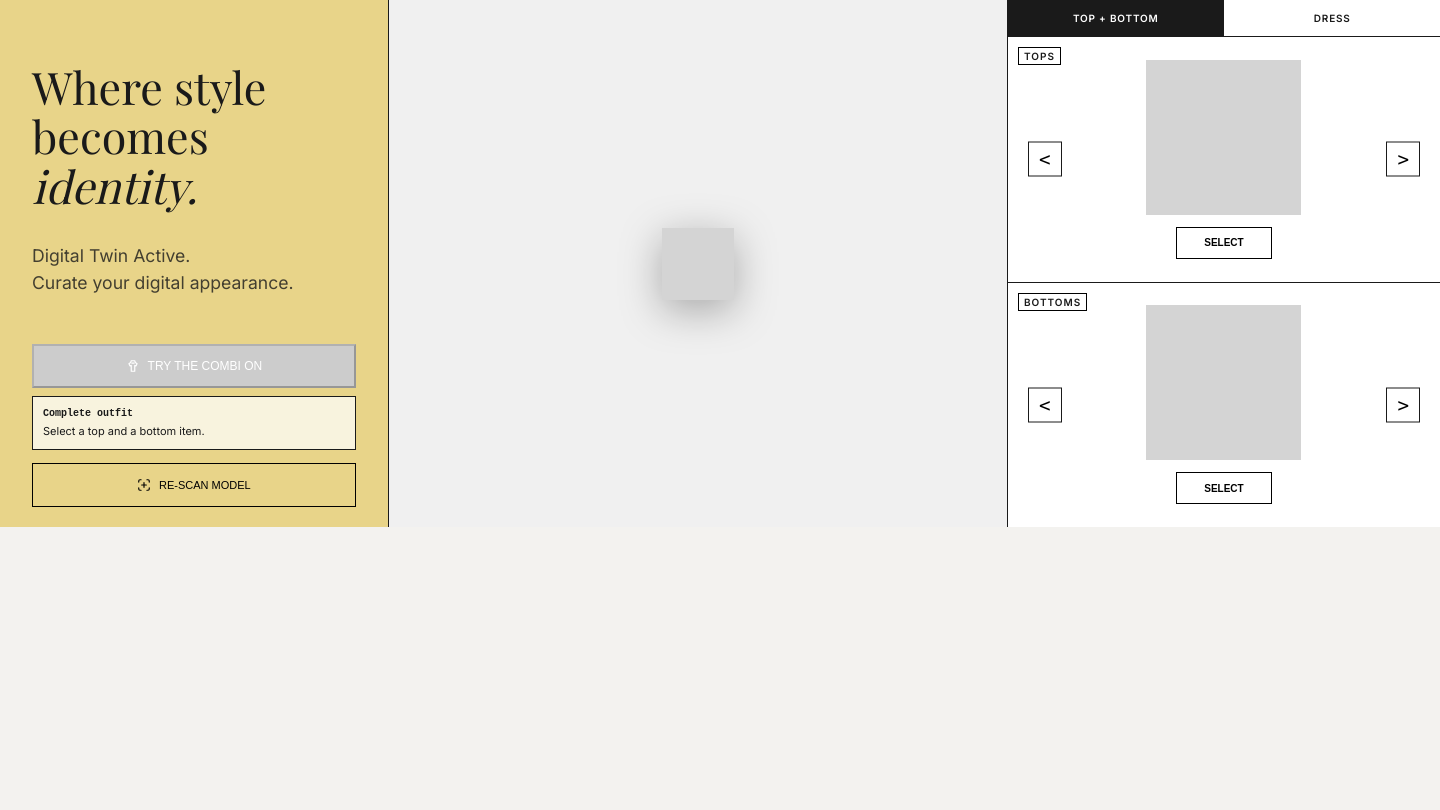
Test: Wardrobe states › reports a failed archive without closing on its own
Click the button "SELECT" below "TOPS" at (1224,243), box x1=1176 y1=227 x2=1272 y2=259
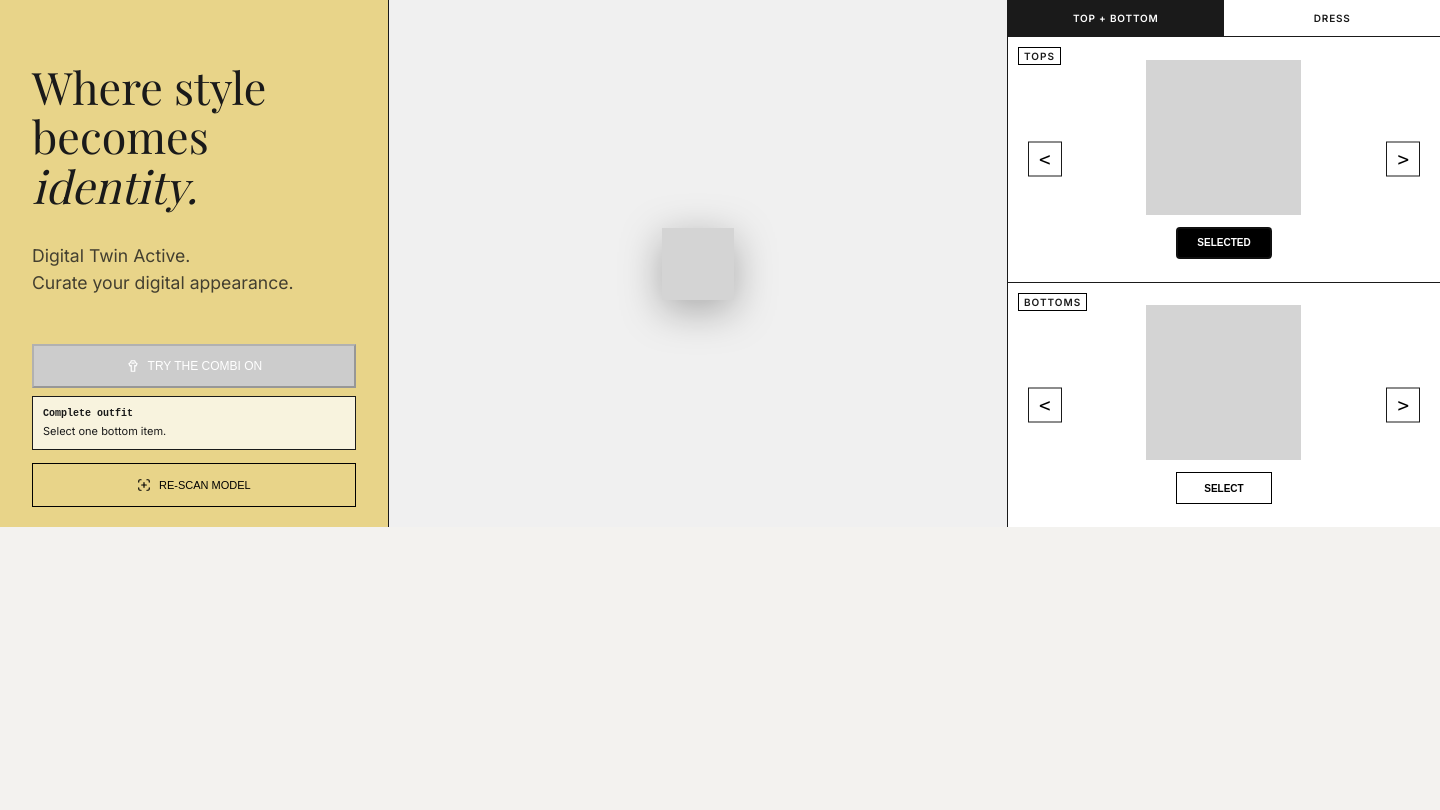
Click the button "SELECT" at (1224,488), box x1=1176 y1=472 x2=1272 y2=504
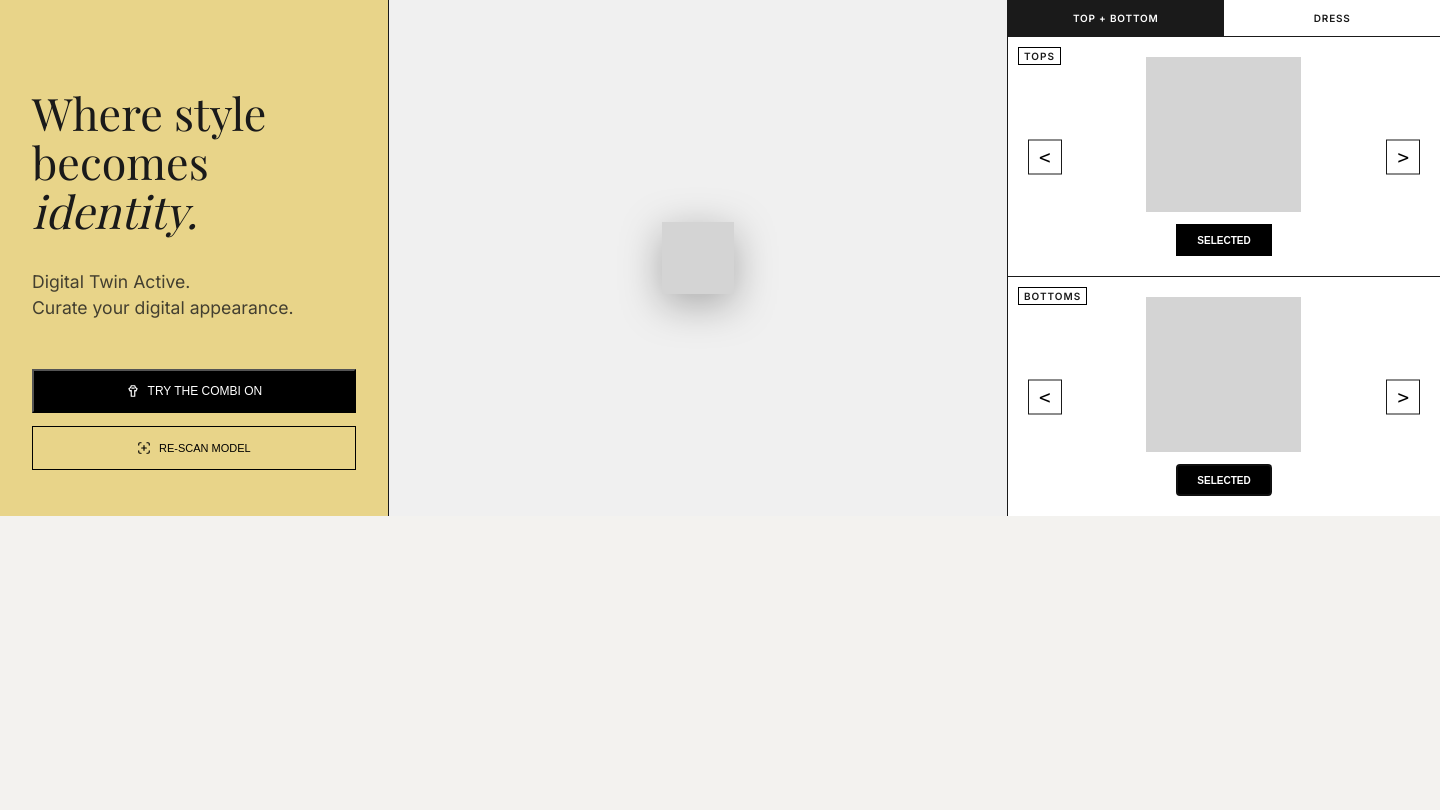
Click the button "TRY THE COMBI ON" at (194,391), box x1=32 y1=369 x2=356 y2=413
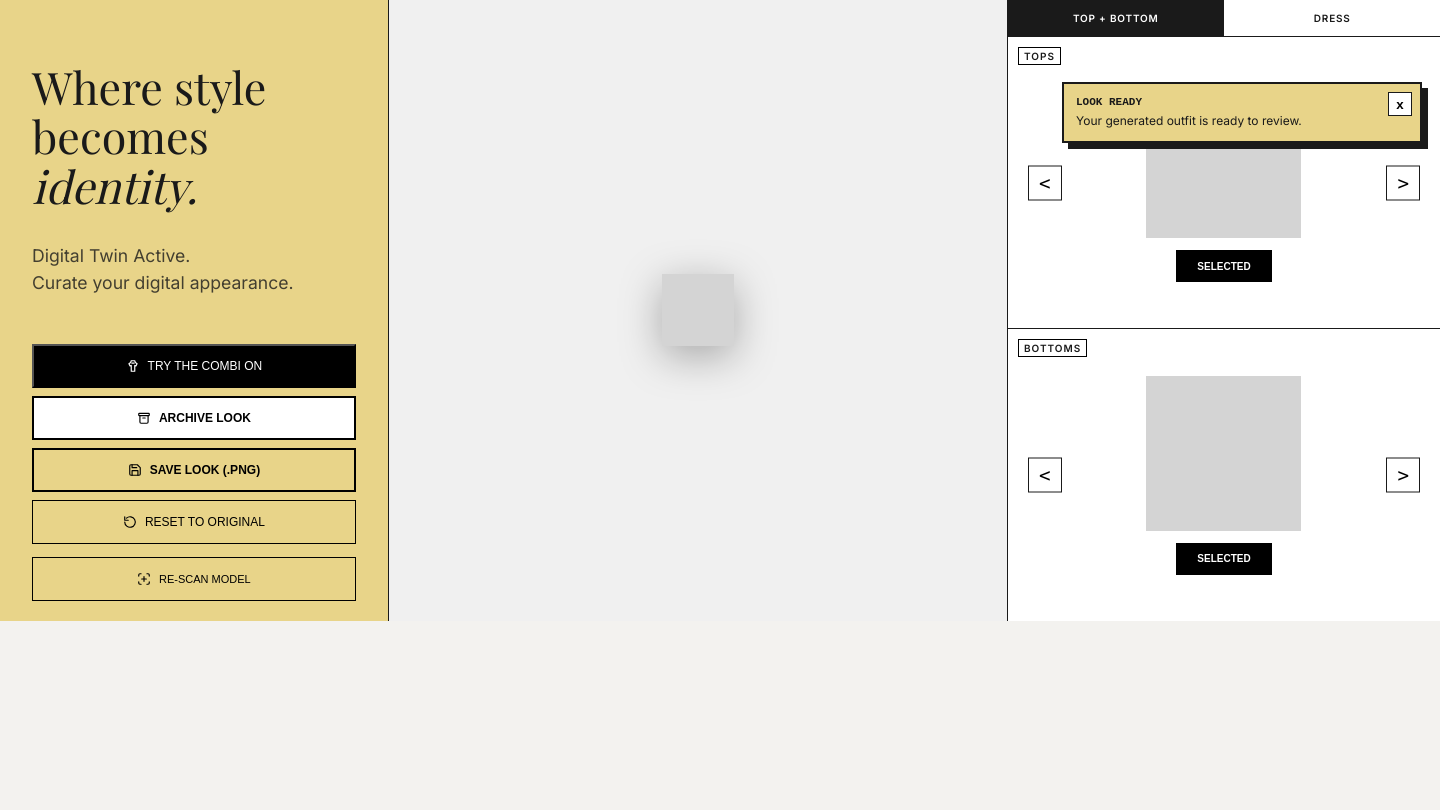
Expected: the text "LOOK READY" is shown, x1=1076 y1=96 x2=1142 y2=108
Click the button "ARCHIVE LOOK" at (194,418), box x1=32 y1=396 x2=356 y2=440
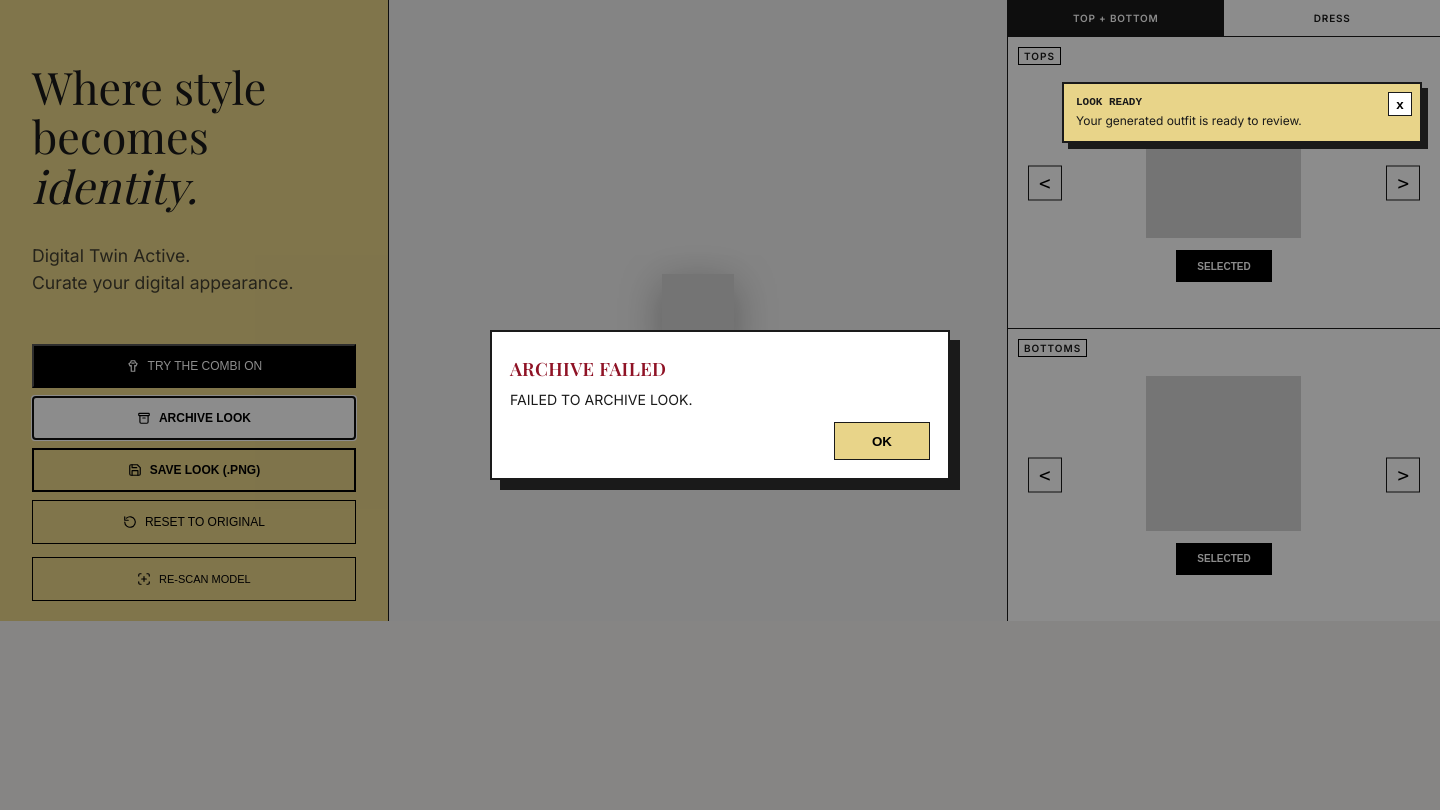
Expected: the dialog shows "ARCHIVE FAILED", x1=510 y1=356 x2=666 y2=381
